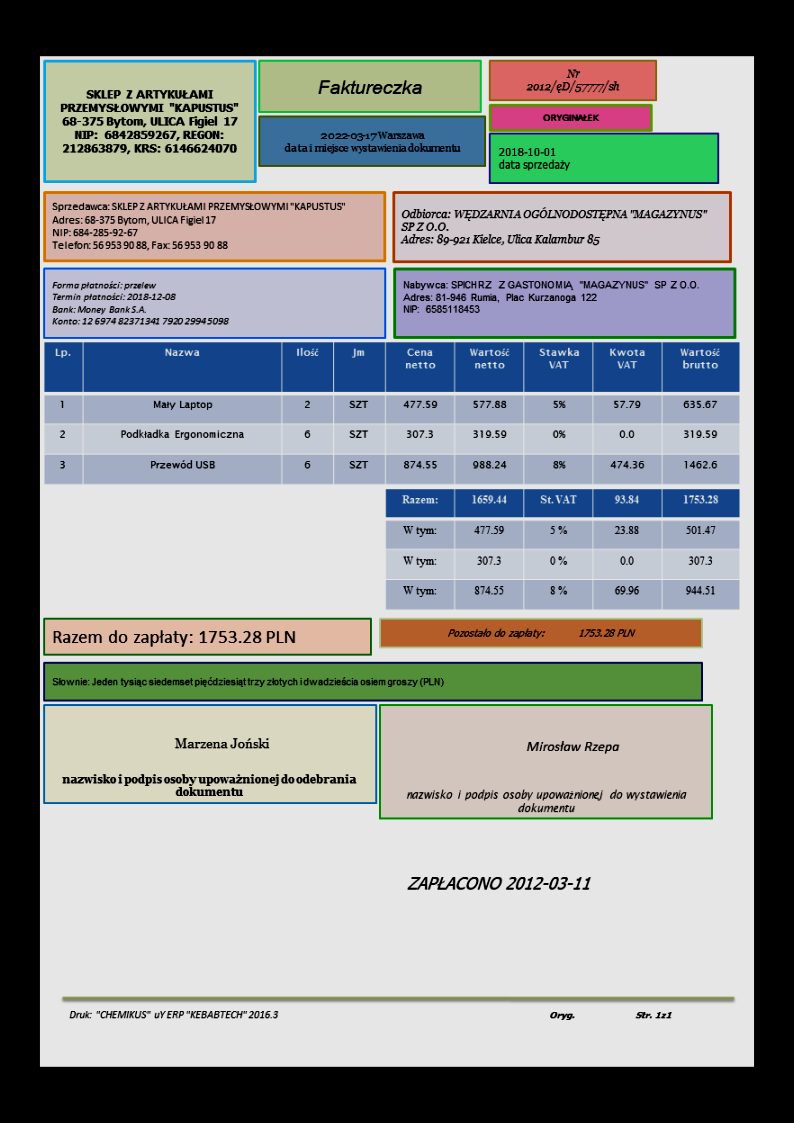Table: (42, 340, 742, 486), (384, 485, 742, 609)
TextBox: (49, 197, 346, 253), (399, 204, 710, 249), (57, 84, 240, 157), (402, 277, 700, 316), (50, 278, 231, 328), (60, 771, 358, 800), (403, 785, 689, 815), (49, 674, 447, 691), (49, 625, 297, 648), (282, 127, 463, 156), (405, 870, 596, 894), (67, 1006, 283, 1022), (444, 624, 638, 641), (524, 66, 621, 96), (314, 75, 424, 100), (496, 143, 570, 172), (170, 732, 271, 753), (546, 1007, 674, 1023), (524, 736, 622, 755), (540, 109, 599, 125)
